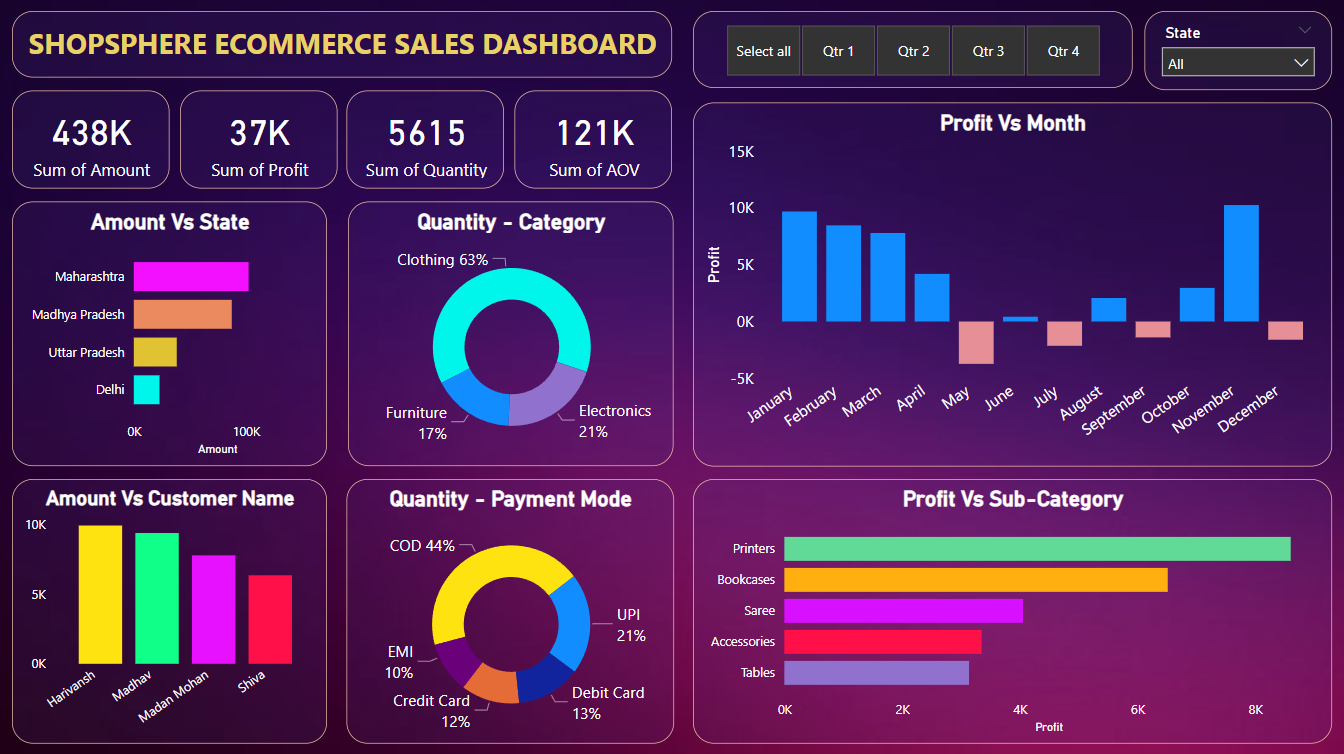

The dashboard page shown, as its layout file describes it:
{"tool":"powerbi","page":{"name":"DASHBOARD","canvas":[1280,720],"ordinal":0},"visuals":[{"type":"textbox","box":[11.7,11.7,628.3,63.3],"z":0},{"type":"columnChart","title":"Profit Vs Month","fields":{"Y":["Details.Profit"],"Category":["Orders.Order Date.Variation.Date Hierarchy.Month"]},"box":[660,98.3,608.3,346.7],"z":1000},{"type":"barChart","title":"Profit Vs Sub-Category","fields":{"Category":["Details.Sub-Category"],"Y":["Details.Profit"]},"box":[660,456.7,608.3,251.7],"z":2000},{"type":"donutChart","title":"Quantity - Payment Mode","fields":{"Y":["Details.Quantity"],"Category":["Details.PaymentMode"]},"box":[330.2,456.7,311.7,251.7],"z":3000},{"type":"donutChart","title":"Quantity - Category","fields":{"Y":["Details.Quantity"],"Category":["Details.Category"]},"box":[330.8,193.3,310,251.7],"z":4000},{"type":"barChart","title":"Amount Vs State","fields":{"Category":["Orders.State"],"Y":["Details.Amount"]},"box":[11.7,193.3,300,251.7],"z":5000},{"type":"columnChart","title":"Amount Vs Customer Name","fields":{"Category":["Orders.CustomerName"],"Y":["Details.Amount"]},"box":[12,457,300,252],"z":6000},{"type":"card","fields":{"Values":["Details.Amount"]},"box":[11.7,86.7,150,93.3],"z":7000},{"type":"card","fields":{"Values":["Details.Profit"]},"box":[171.1,86.7,150,93.3],"z":8000},{"type":"card","fields":{"Values":["Details.Quantity"]},"box":[330.6,86.7,150,93.3],"z":9000},{"type":"card","fields":{"Values":["Details.AOV"]},"box":[490,86.7,150,93.3],"z":10000},{"type":"slicer","fields":{"Values":["Orders.Order Date.Variation.Date Hierarchy.Quarter"]},"box":[660,11.7,418.3,73.3],"z":11000},{"type":"slicer","fields":{"Values":["Orders.State"]},"box":[1090,11.7,178.3,75],"z":12000}]}

Visuals, with their boxes in screenshot pixels (x1, y1, x2, y2), scaled from the page's 1280x720 canvas onto the 1344x754 screenshot:
textbox: <region>12, 12, 672, 79</region>
"Profit Vs Month" columnChart: <region>693, 103, 1332, 466</region>
"Profit Vs Sub-Category" barChart: <region>693, 478, 1332, 742</region>
"Quantity - Payment Mode" donutChart: <region>347, 478, 674, 742</region>
"Quantity - Category" donutChart: <region>347, 202, 673, 466</region>
"Amount Vs State" barChart: <region>12, 202, 327, 466</region>
"Amount Vs Customer Name" columnChart: <region>13, 479, 328, 742</region>
card - Details.Amount: <region>12, 91, 170, 188</region>
card - Details.Profit: <region>180, 91, 337, 188</region>
card - Details.Quantity: <region>347, 91, 505, 188</region>
card - Details.AOV: <region>514, 91, 672, 188</region>
slicer - Orders.Order Date.Variation.Date Hierarchy.Quarter: <region>693, 12, 1132, 89</region>
slicer - Orders.State: <region>1144, 12, 1332, 91</region>
